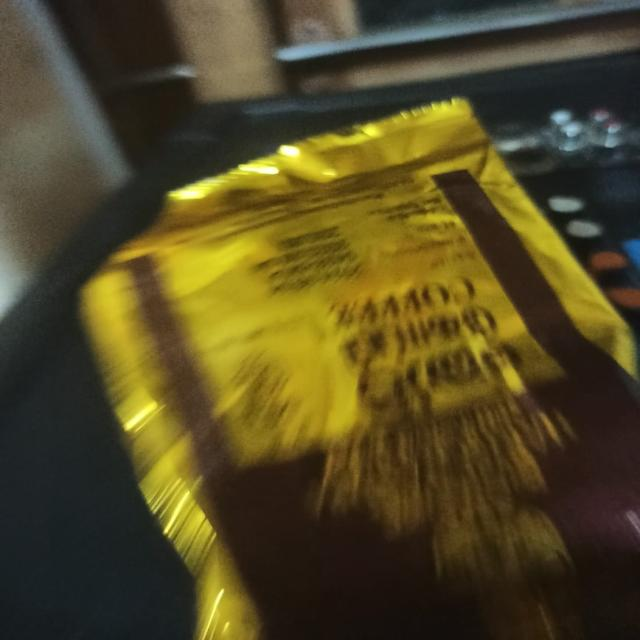Harischandra Coffee: (103, 184, 640, 640)
